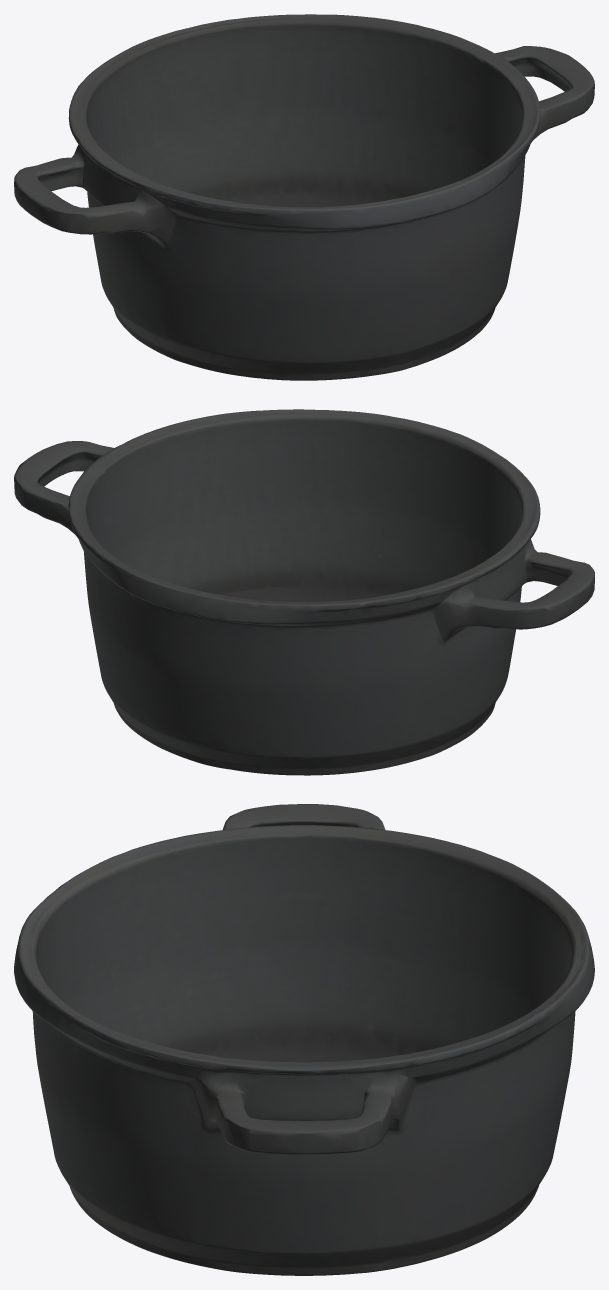
Rendered from olla.glb.
3 views of the same model, one above another, from view 1: azimuth 30°, elevation 25°; view 2: azimuth 150°, elevation 25°; view 3: azimuth 270°, elevation 25° (orthographic). The views are drawn at different scales.
Parts seen in each view (by area): view 1: tripo_node_0b24f4b4-ebb0-4b14-9fbd-01b2512ad824; view 2: tripo_node_0b24f4b4-ebb0-4b14-9fbd-01b2512ad824; view 3: tripo_node_0b24f4b4-ebb0-4b14-9fbd-01b2512ad824.
Part boxes in pixels (x1,y1,x2,y2): tripo_node_0b24f4b4-ebb0-4b14-9fbd-01b2512ad824: (14,14,594,380); tripo_node_0b24f4b4-ebb0-4b14-9fbd-01b2512ad824: (14,409,594,775); tripo_node_0b24f4b4-ebb0-4b14-9fbd-01b2512ad824: (14,804,594,1275).
Size of the model in its own units: 0.9796 by 0.3206 by 0.7308.
Materials: 1 (1 with a texture image).
